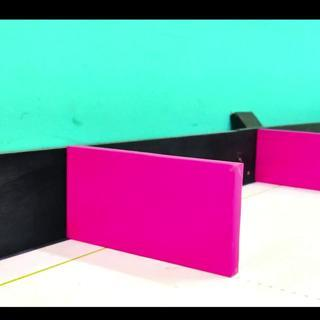xparking: (75, 168, 235, 272), (263, 135, 318, 188)
